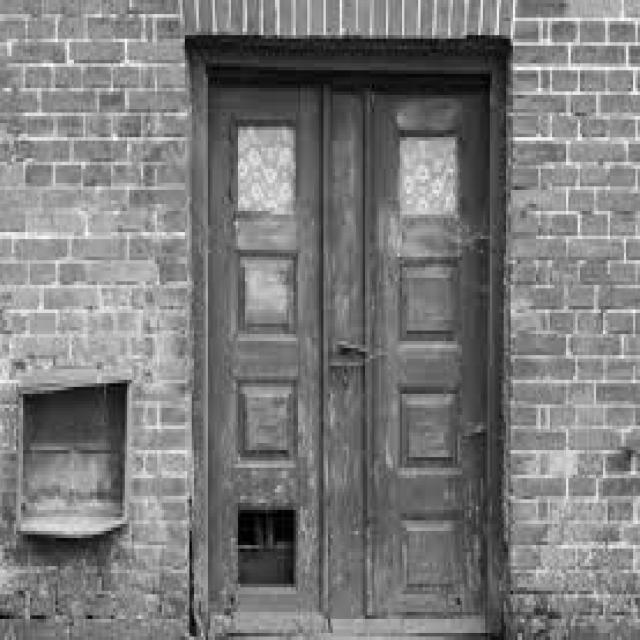Door: (203, 78, 488, 616)
